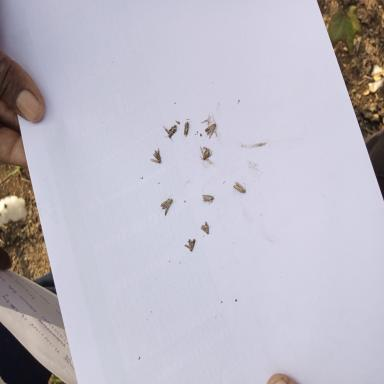pbw: (204, 116, 216, 139), (161, 194, 173, 216), (200, 146, 213, 164), (164, 124, 177, 142), (150, 147, 162, 164), (232, 182, 246, 195), (184, 239, 195, 252), (200, 221, 210, 234), (184, 121, 191, 137), (202, 194, 214, 203)
